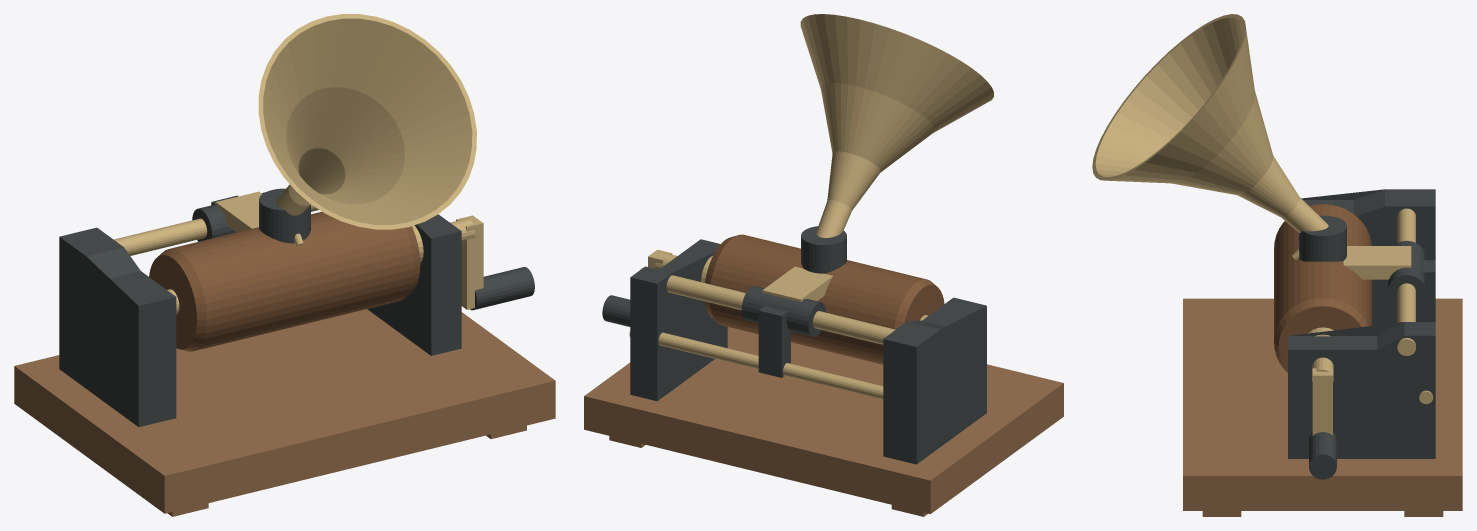
3 views of the same model, side by side, from view 1: azimuth 30°, elevation 25°; view 2: azimuth 150°, elevation 25°; view 3: azimuth 270°, elevation 25° (orthographic). The views are drawn at different scales.
Parts seen in each view (by area): view 1: WholeFootedLowWoodBase, WholeOpenFlaredHorn, WholeBlankBoredCylinder, WholeLeftRaisedEndStock, WholeRightRaisedEndStock, WholeRoundReproducerHead, WholeParallelGuideRod, WholeCrankGrip, WholeFixedCrankBar, WholeForwardReproducerCarrier, WholeBoredReproducerSleeve; view 2: WholeFootedLowWoodBase, WholeOpenFlaredHorn, WholeLeftRaisedEndStock, WholeBlankBoredCylinder, WholeRightRaisedEndStock, WholeLowerSmoothFeedRod, WholeParallelGuideRod, WholeBoredReproducerSleeve, WholeCarriageDropLink, WholeRoundReproducerHead, WholeForwardReproducerCarrier, WholeCrankGrip; view 3: WholeFootedLowWoodBase, WholeOpenFlaredHorn, WholeRightRaisedEndStock, WholeBlankBoredCylinder, WholeLeftRaisedEndStock, WholeForwardReproducerCarrier, WholeRoundReproducerHead, WholeParallelGuideRod, WholeFixedCrankBar, WholeBoredReproducerSleeve, WholeCrankGrip, WholeCarriageDropLink.
Part boxes in pixels (x1,y1,x2,y2): WholeFootedLowWoodBase: [14, 309, 555, 516]; WholeOpenFlaredHorn: [258, 14, 476, 229]; WholeBlankBoredCylinder: [149, 211, 420, 351]; WholeLeftRaisedEndStock: [59, 227, 176, 426]; WholeRightRaisedEndStock: [367, 214, 461, 355]; WholeRoundReproducerHead: [259, 188, 310, 243]; WholeParallelGuideRod: [114, 204, 318, 255]; WholeCrankGrip: [470, 267, 534, 310]; WholeFixedCrankBar: [456, 215, 483, 309]; WholeForwardReproducerCarrier: [215, 191, 261, 232]; WholeBoredReproducerSleeve: [192, 192, 264, 241]; WholeFootedLowWoodBase: [584, 327, 1063, 516]; WholeOpenFlaredHorn: [800, 14, 993, 237]; WholeLeftRaisedEndStock: [883, 297, 986, 464]; WholeBlankBoredCylinder: [704, 234, 944, 364]; WholeRightRaisedEndStock: [630, 239, 727, 401]; WholeLowerSmoothFeedRod: [629, 331, 883, 399]; WholeParallelGuideRod: [640, 268, 895, 344]; WholeBoredReproducerSleeve: [741, 286, 826, 336]; WholeCarriageDropLink: [758, 306, 790, 377]; WholeRoundReproducerHead: [801, 226, 846, 273]; WholeForwardReproducerCarrier: [762, 266, 832, 301]; WholeCrankGrip: [602, 295, 630, 326]; WholeFootedLowWoodBase: [1183, 298, 1462, 516]; WholeOpenFlaredHorn: [1092, 14, 1328, 232]; WholeRightRaisedEndStock: [1288, 322, 1435, 458]; WholeBlankBoredCylinder: [1274, 204, 1371, 372]; WholeLeftRaisedEndStock: [1301, 189, 1435, 325]; WholeForwardReproducerCarrier: [1343, 246, 1411, 279]; WholeRoundReproducerHead: [1299, 215, 1346, 261]; WholeParallelGuideRod: [1397, 208, 1415, 355]; WholeFixedCrankBar: [1312, 368, 1332, 435]; WholeBoredReproducerSleeve: [1388, 240, 1425, 305]; WholeCrankGrip: [1309, 432, 1336, 479]; WholeCarriageDropLink: [1416, 260, 1435, 321].
Size of the model in its own units: 0.605 by 0.581 by 0.477.
